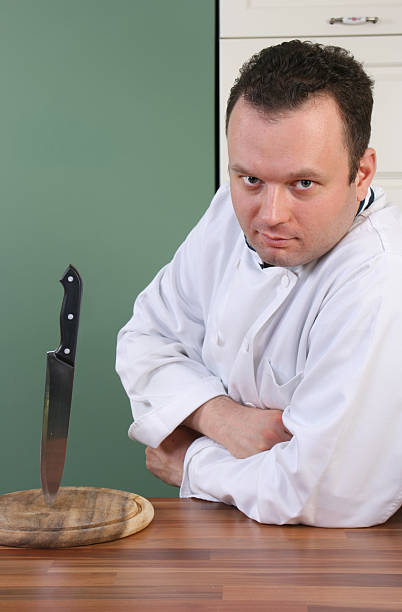knife: (39, 266, 81, 511)
